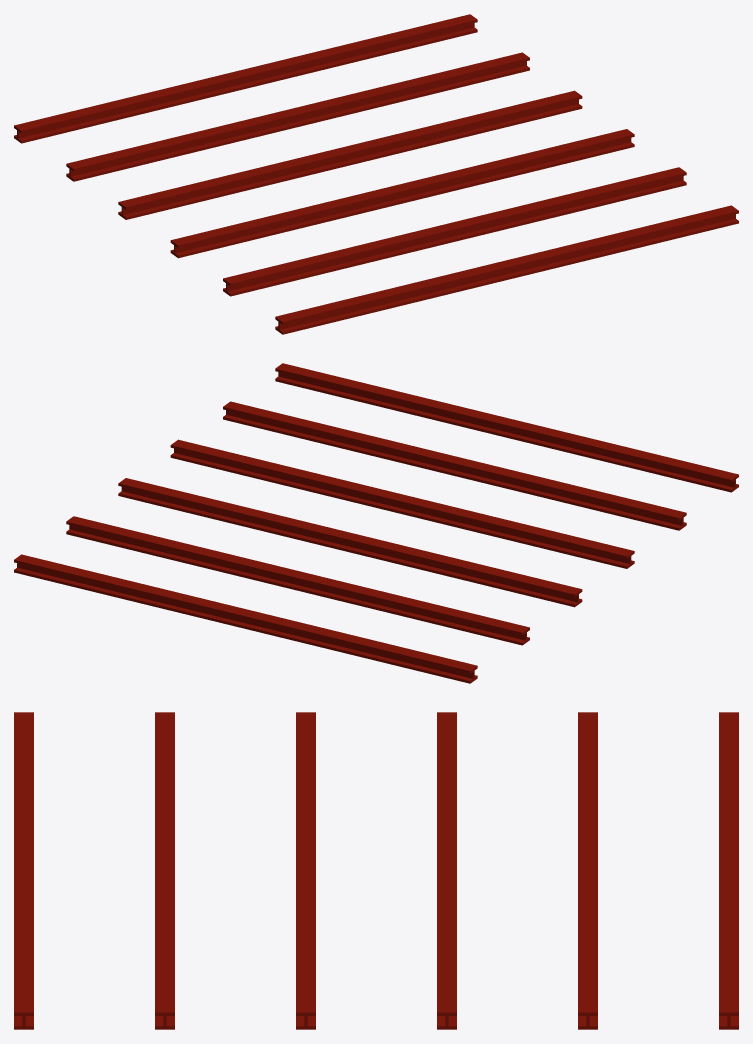
The model's file is I-beam_001.gltf.
The picture shows the model from 3 angles, top to bottom: view 1: azimuth 30°, elevation 25°; view 2: azimuth 150°, elevation 25°; view 3: azimuth 270°, elevation 25°; orthographic projection. The views are drawn at different scales.
Parts seen in each view (by area): view 1: I-beam.001; view 2: I-beam.001; view 3: I-beam.001.
Part boxes in pixels (x1,y1,x2,y2): I-beam.001: (14,14,738,334); I-beam.001: (14,363,738,683); I-beam.001: (14,712,738,1029).
Size of the model in its own units: 18.55 by 0.4907 by 18.92.
